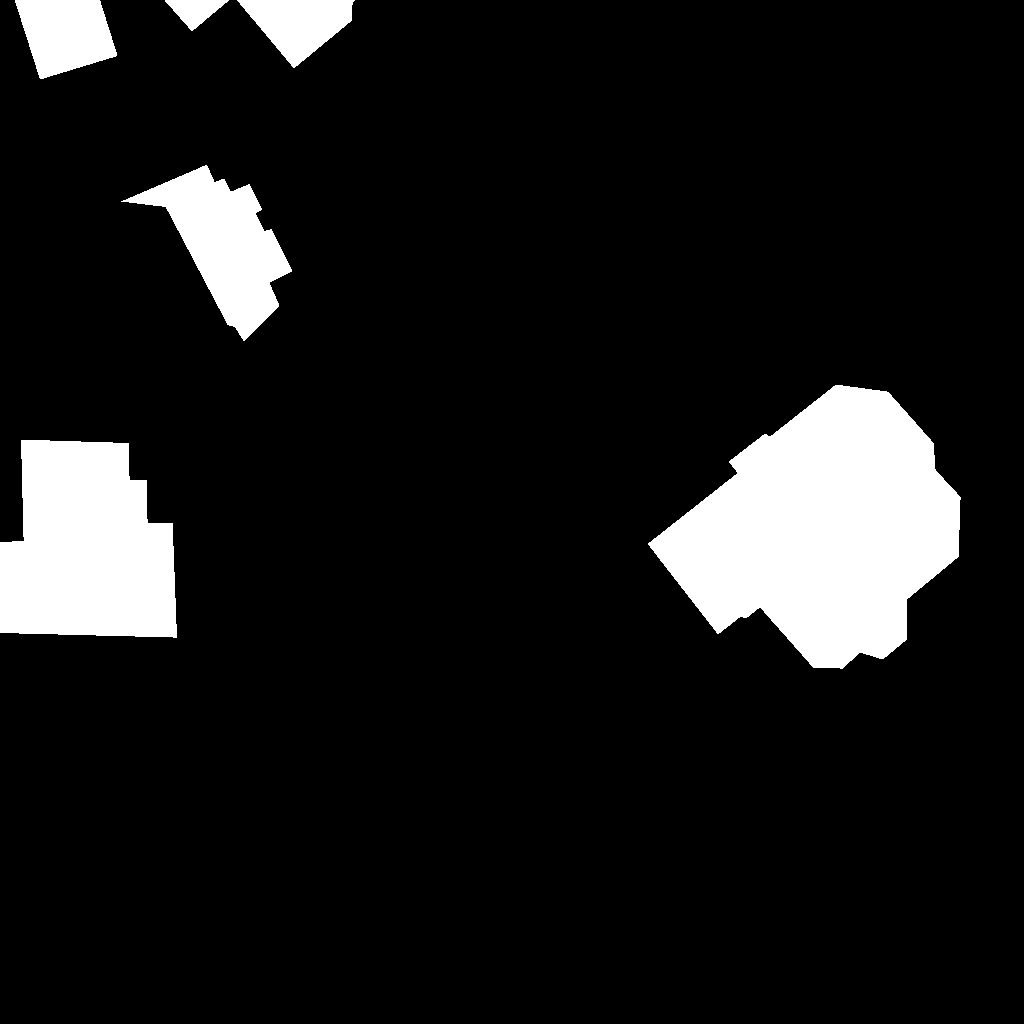building: (648, 385, 961, 669), (0, 440, 178, 638), (121, 165, 293, 342), (164, 0, 357, 69), (15, 0, 118, 80)
